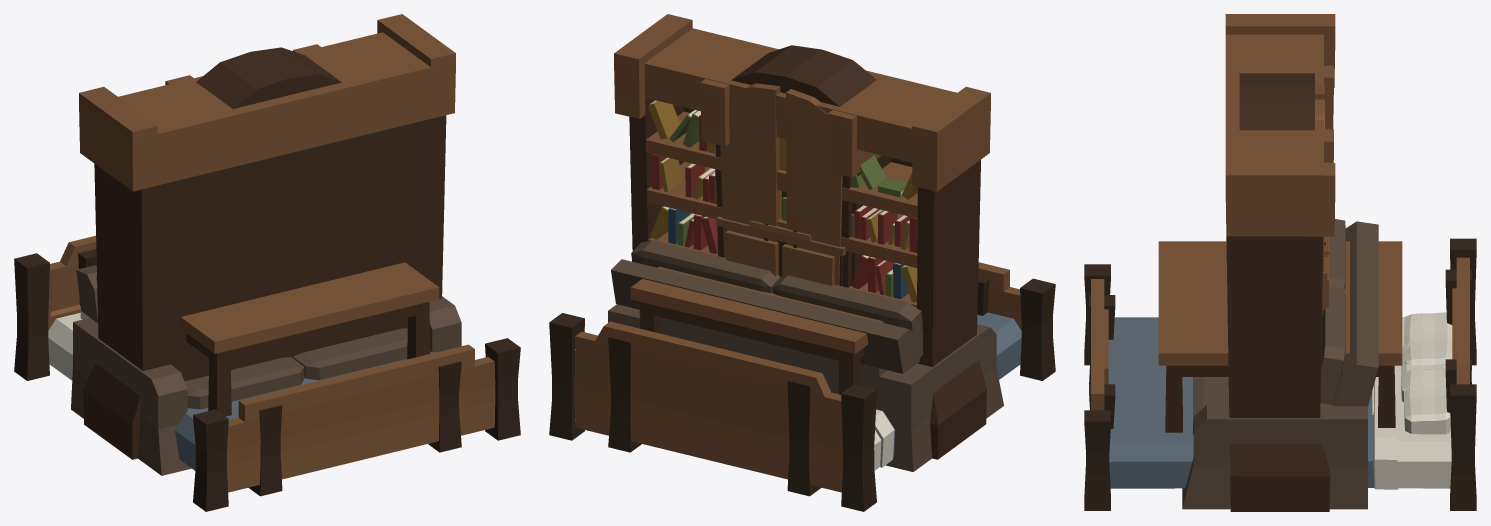
Rendered from furniture.glb.
3 views of the same model, side by side, from view 1: azimuth 30°, elevation 25°; view 2: azimuth 150°, elevation 25°; view 3: azimuth 270°, elevation 25° (orthographic). The views are drawn at different scales.
Visible parts, largest first — view 1: shelf_large, bed_double, sofa, table, closet, bed; view 2: shelf_large, bed_double, sofa, closet, table, bed, dresser, bookcase, bookcase_empty; view 3: shelf_large, bed_double, sofa, table, closet, bed, bookcase_empty, bookcase.
Part boxes in pixels (x1,y1,x2,y2): shelf_large: [79, 14, 455, 459]; bed_double: [14, 235, 520, 511]; sofa: [71, 265, 461, 475]; table: [95, 254, 439, 416]; closet: [196, 47, 341, 108]; bed: [78, 249, 461, 496]; shelf_large: [614, 14, 990, 459]; bed_double: [549, 262, 1055, 511]; sofa: [608, 240, 1003, 471]; closet: [715, 45, 891, 285]; table: [630, 266, 883, 394]; bed: [608, 277, 989, 496]; dresser: [716, 216, 845, 286]; bookcase: [700, 79, 881, 287]; bookcase_empty: [701, 95, 856, 287]; shelf_large: [1225, 14, 1335, 511]; bed_double: [1084, 238, 1476, 510]; sofa: [1182, 219, 1378, 509]; table: [1158, 241, 1402, 432]; closet: [1239, 73, 1325, 315]; bed: [1089, 269, 1471, 428]; bookcase_empty: [1324, 73, 1333, 157]; bookcase: [1324, 65, 1333, 162].
Bounding box in the file's own units: 1.95 × 1.95 × 2.
